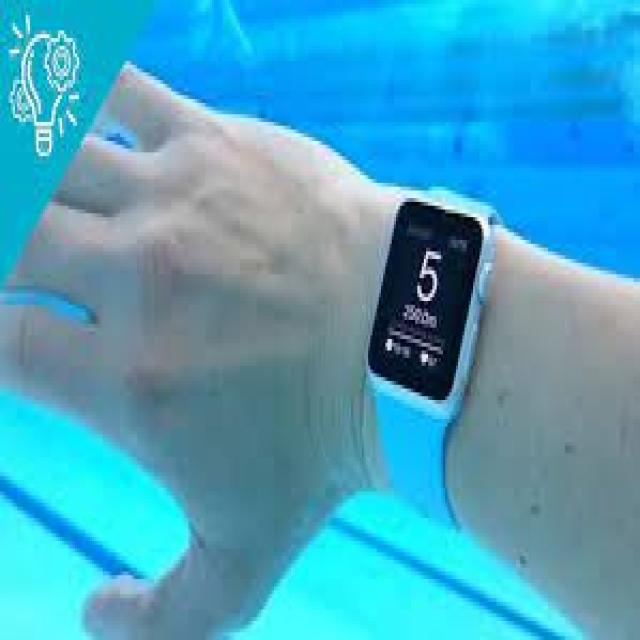objects: (368, 187, 506, 532), (471, 190, 482, 191)
